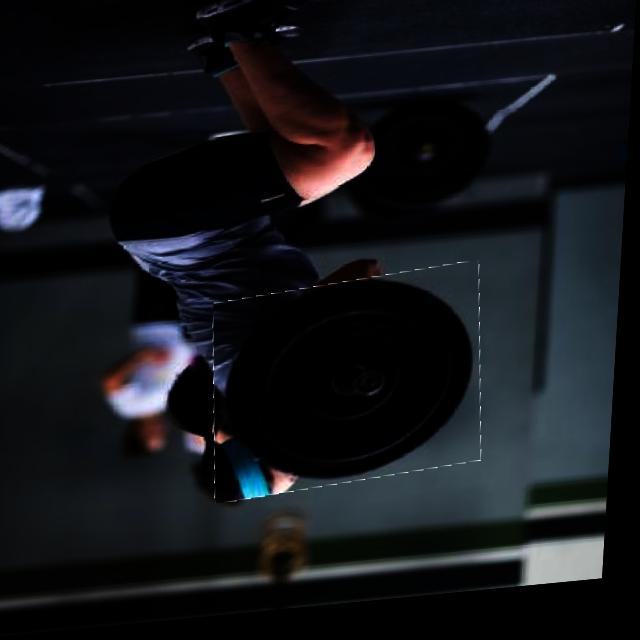barbell: (213, 274, 494, 506)
